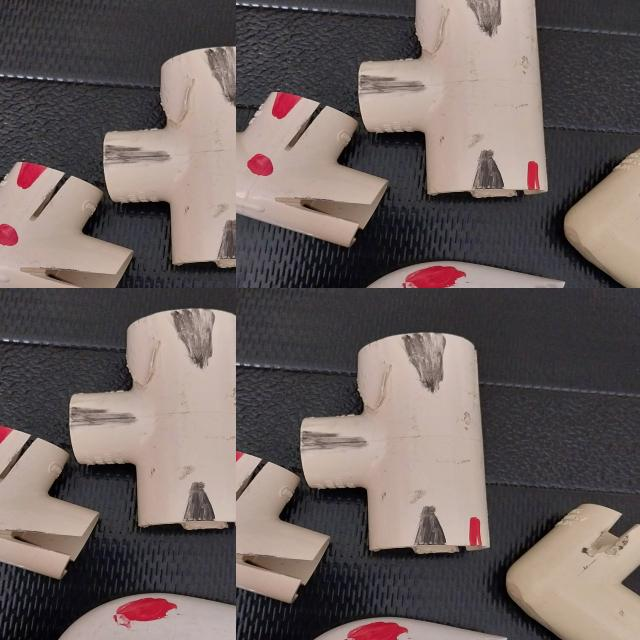Defective: (404, 334, 453, 396), (236, 550, 310, 583), (415, 506, 450, 552), (236, 465, 269, 508), (303, 434, 368, 453), (348, 626, 401, 640), (467, 516, 483, 550)
L Joint: (506, 509, 640, 640)
T Joint: (296, 334, 484, 555), (236, 438, 338, 606)
